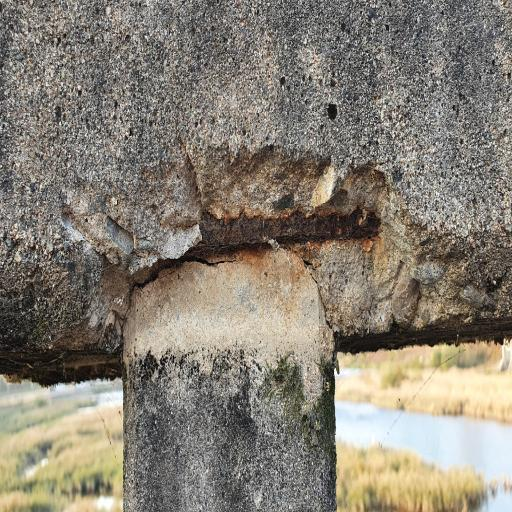exposed_rebar: (197, 206, 381, 251)
